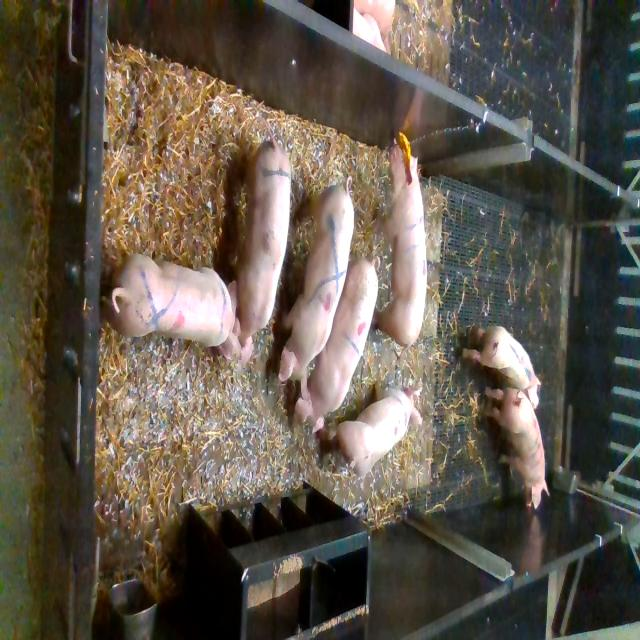pig: (278, 175, 355, 399), (292, 255, 380, 434), (101, 253, 241, 360), (232, 115, 291, 363), (373, 138, 427, 364), (316, 376, 424, 475), (478, 387, 550, 510), (462, 325, 541, 409)
